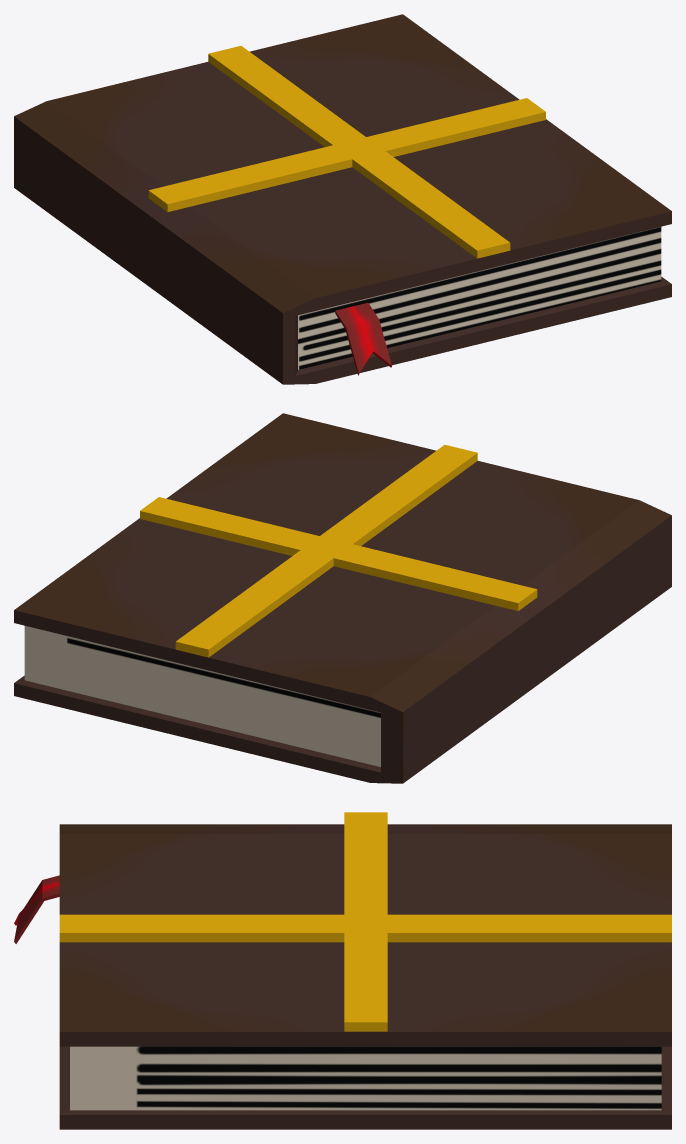
The model's file is Book 6.glb.
3 renders of one model, top to bottom at view 1: azimuth 30°, elevation 25°; view 2: azimuth 150°, elevation 25°; view 3: azimuth 270°, elevation 25°, orthographic. The views are drawn at different scales.
Parts seen in each view (by area): view 1: Cube.001, Plane.001; view 2: Cube.001; view 3: Cube.001, Plane.001.
Part boxes in pixels (x1,y1,x2,y2): Cube.001: (14,14,671,384); Plane.001: (335,302,391,375); Cube.001: (14,413,671,783); Cube.001: (59,812,671,1129); Plane.001: (14,875,59,943).
Bounding box in the file's own units: 0.2261 × 0.0521 × 0.2911.
Materials: 4 (3 with a texture image).
